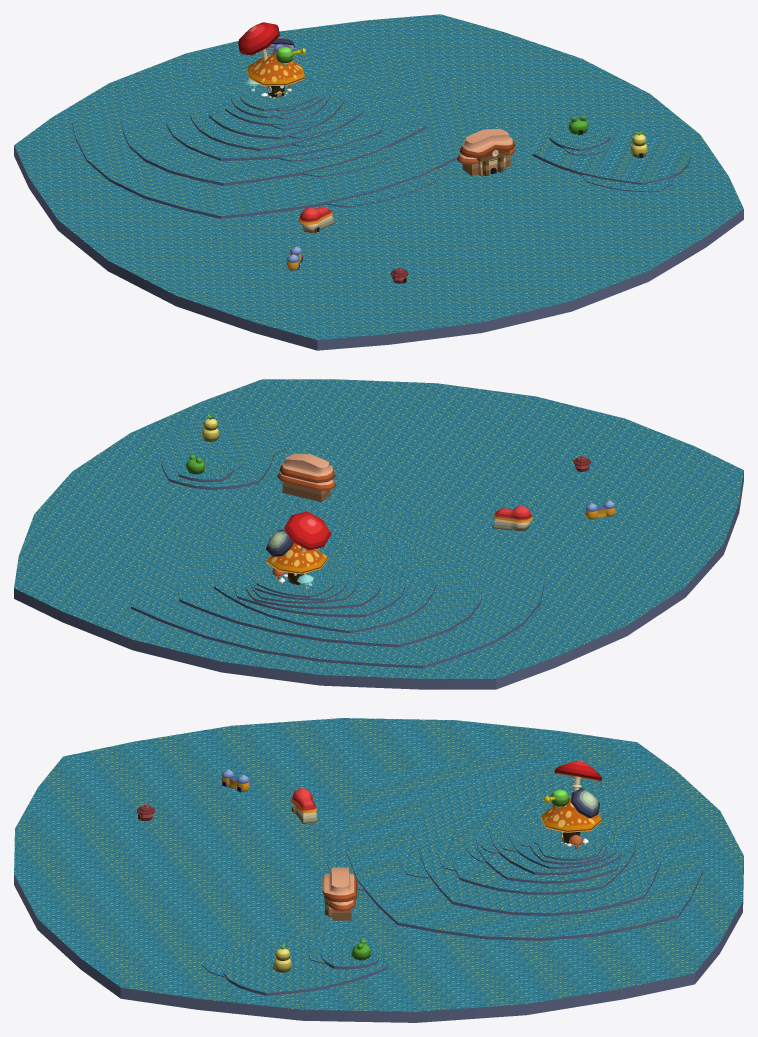
File: basic_town_layout_normals_conformed.fbx
3 renders of one model, top to bottom at view 1: azimuth 30°, elevation 25°; view 2: azimuth 150°, elevation 25°; view 3: azimuth 270°, elevation 25°, orthographic. The views are drawn at different scales.
Parts seen in each view (by area): view 1: pPlane19, pPlane27, pPlane9, pPlane17, pPlane8, polySurface67, pPlane7, polySurface1, pPlane6, pPlane3, pPlane29, pPlane18 (+6 smaller); view 2: pPlane19, pPlane27, pPlane9, pPlane17, pPlane8, polySurface67, pPlane7, polySurface1, pPlane6, pPlane3, pPlane18, pPlane5 (+5 smaller); view 3: pPlane19, pPlane27, pPlane9, pPlane17, pPlane8, polySurface67, pPlane7, pPlane6, polySurface1, pPlane3, pPlane18, pPlane5 (+6 smaller).
Boxes of the visible parts, bbox=[...] form: pPlane19: bbox=[14, 14, 743, 350]; pPlane27: bbox=[72, 44, 485, 218]; pPlane9: bbox=[121, 61, 426, 185]; pPlane17: bbox=[532, 122, 690, 184]; pPlane8: bbox=[166, 76, 383, 160]; polySurface67: bbox=[238, 22, 306, 98]; pPlane7: bbox=[189, 79, 362, 150]; polySurface1: bbox=[457, 128, 515, 175]; pPlane6: bbox=[209, 80, 344, 139]; pPlane3: bbox=[239, 81, 317, 111]; pPlane29: bbox=[326, 169, 440, 207]; pPlane18: bbox=[549, 125, 610, 150]; pPlane19: bbox=[14, 379, 743, 689]; pPlane27: bbox=[130, 504, 544, 668]; pPlane9: bbox=[177, 529, 481, 647]; pPlane17: bbox=[160, 417, 273, 489]; pPlane8: bbox=[213, 544, 435, 633]; polySurface67: bbox=[266, 511, 331, 590]; pPlane7: bbox=[233, 554, 404, 617]; polySurface1: bbox=[277, 453, 335, 502]; pPlane6: bbox=[245, 560, 381, 608]; pPlane3: bbox=[256, 567, 334, 597]; pPlane18: bbox=[178, 456, 233, 482]; pPlane5: bbox=[251, 564, 357, 603]; pPlane19: bbox=[14, 718, 743, 1022]; pPlane27: bbox=[346, 757, 703, 940]; pPlane9: bbox=[418, 777, 660, 916]; pPlane17: bbox=[222, 932, 387, 995]; pPlane8: bbox=[451, 796, 636, 894]; polySurface67: bbox=[541, 760, 601, 849]; pPlane7: bbox=[475, 805, 621, 883]; pPlane6: bbox=[489, 813, 619, 874]; polySurface1: bbox=[322, 867, 357, 920]; pPlane3: bbox=[538, 828, 603, 860]; pPlane18: bbox=[321, 942, 378, 969]; pPlane5: bbox=[508, 821, 615, 868].
Bounding box in the file's own units: 49.58 × 7.98 × 52.06.
